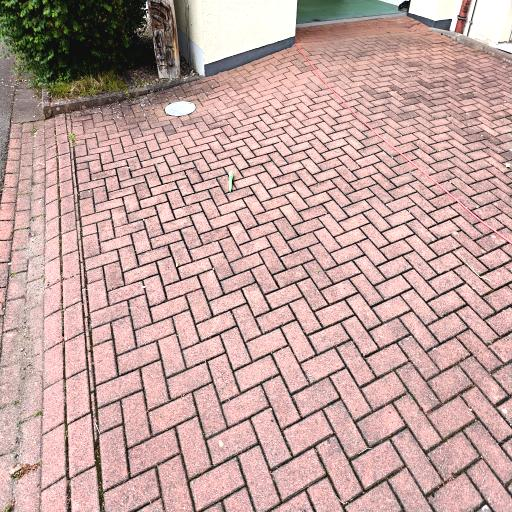Probe-Detection: (229, 172, 233, 192)
